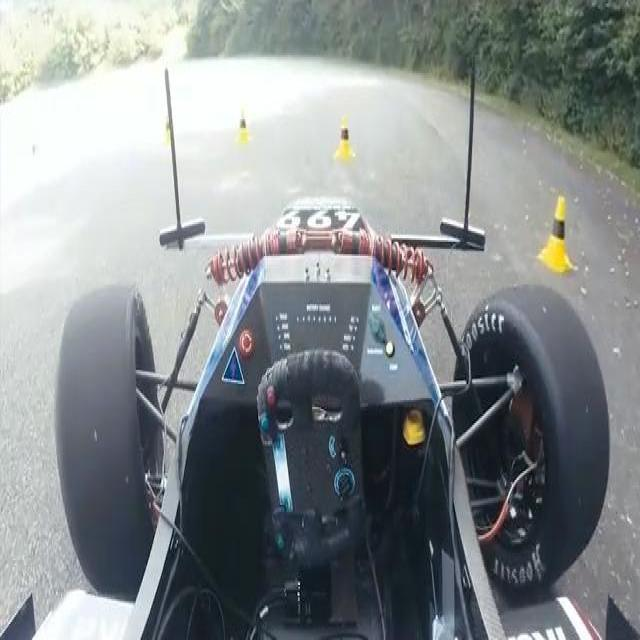yellow_cone: (537, 186, 581, 280), (330, 112, 355, 165), (235, 108, 254, 150)
